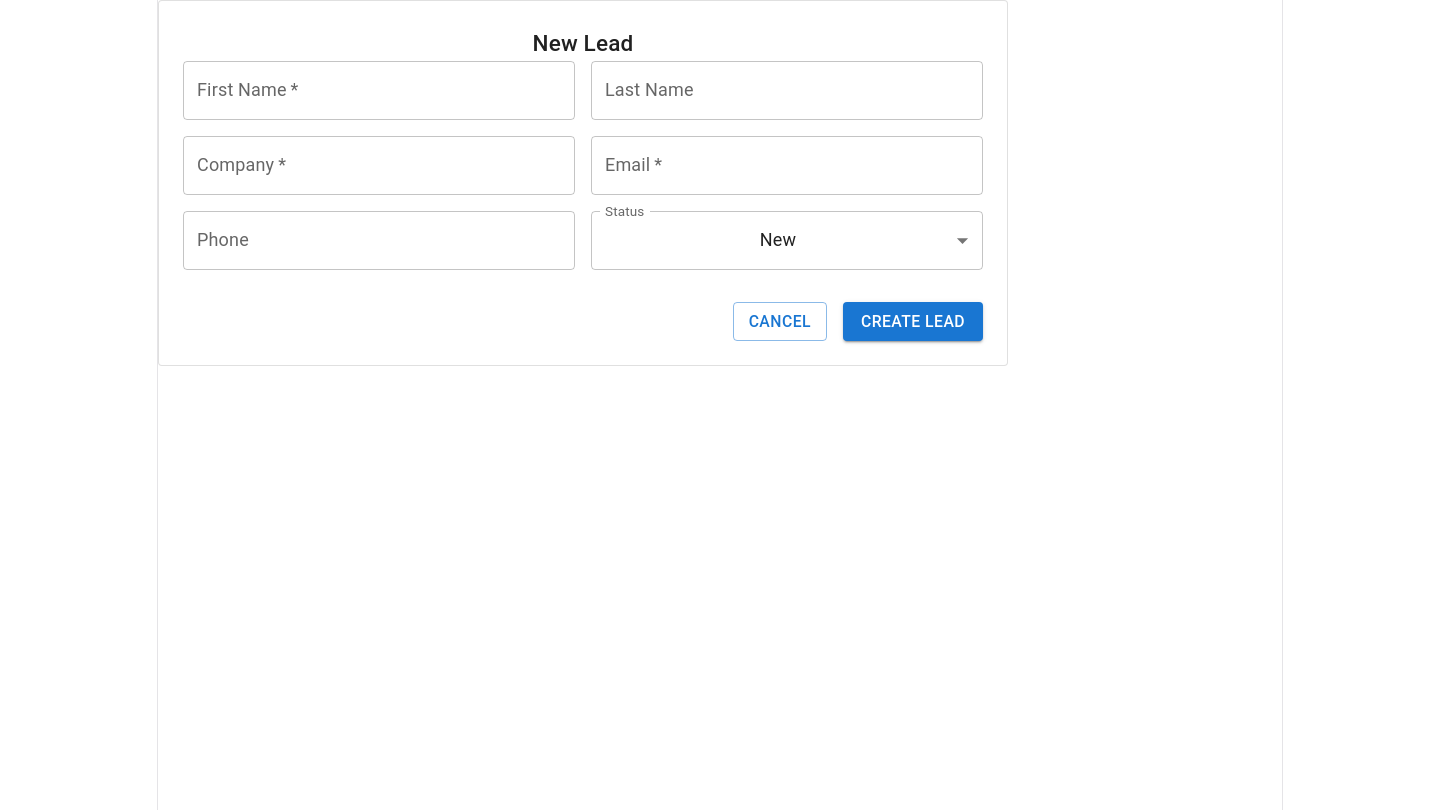
Test: LeadFormPage › shows validation error for invalid email format
The width and height of the screenshot is (1440, 810).
Type "Jane" into the field labelled "First Name *" at (379, 90), box [183,61,575,120]
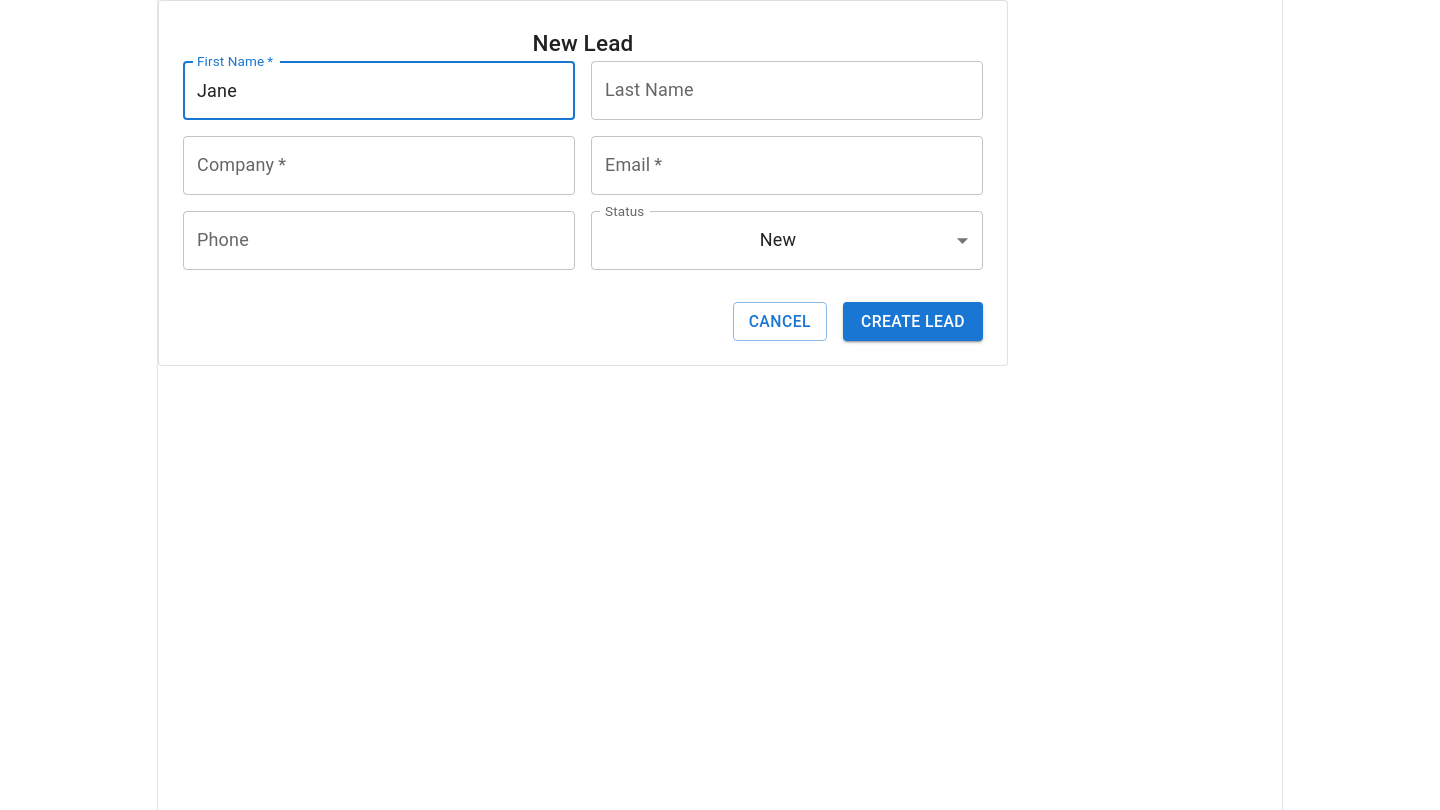
Type "Acme" into the field labelled "Company *" at (379, 165), box [183,136,575,195]
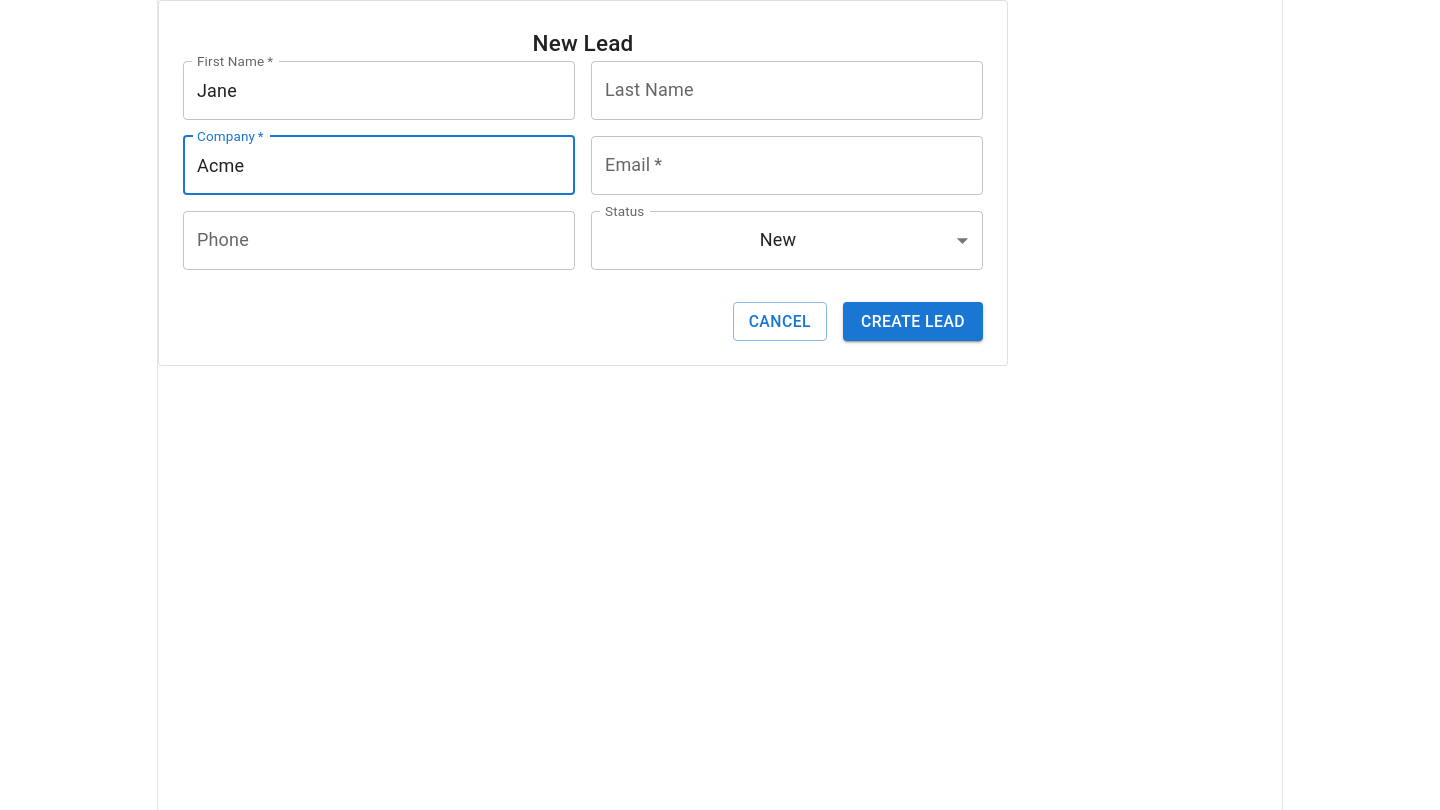
Type "not-an-email" into the field labelled "Email *" at (787, 165), box [591,136,983,195]
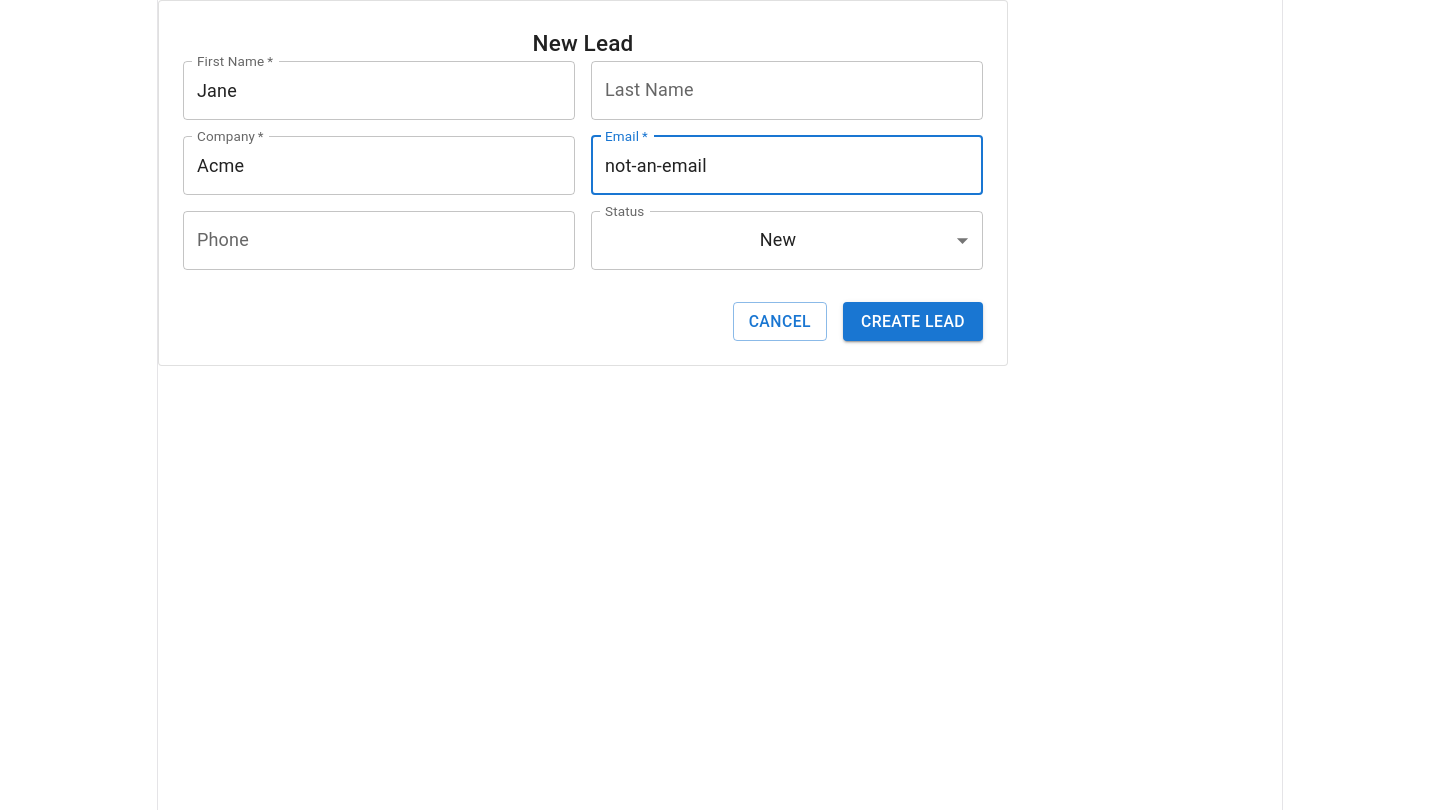
Click the button "Create Lead" at (913, 321), box [843,302,983,341]
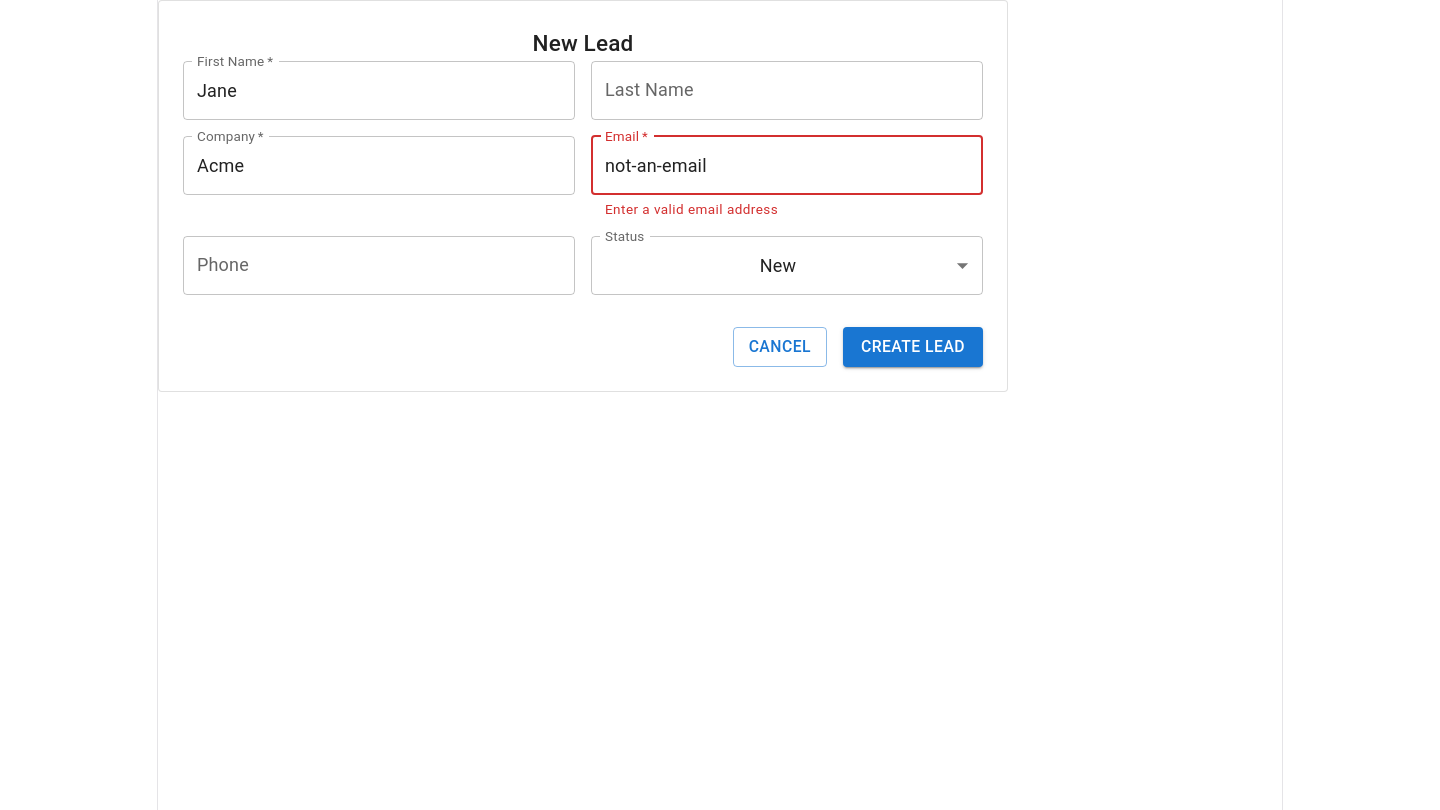
Expected: the text "Enter a valid email address" is shown, [605,201,778,217]
